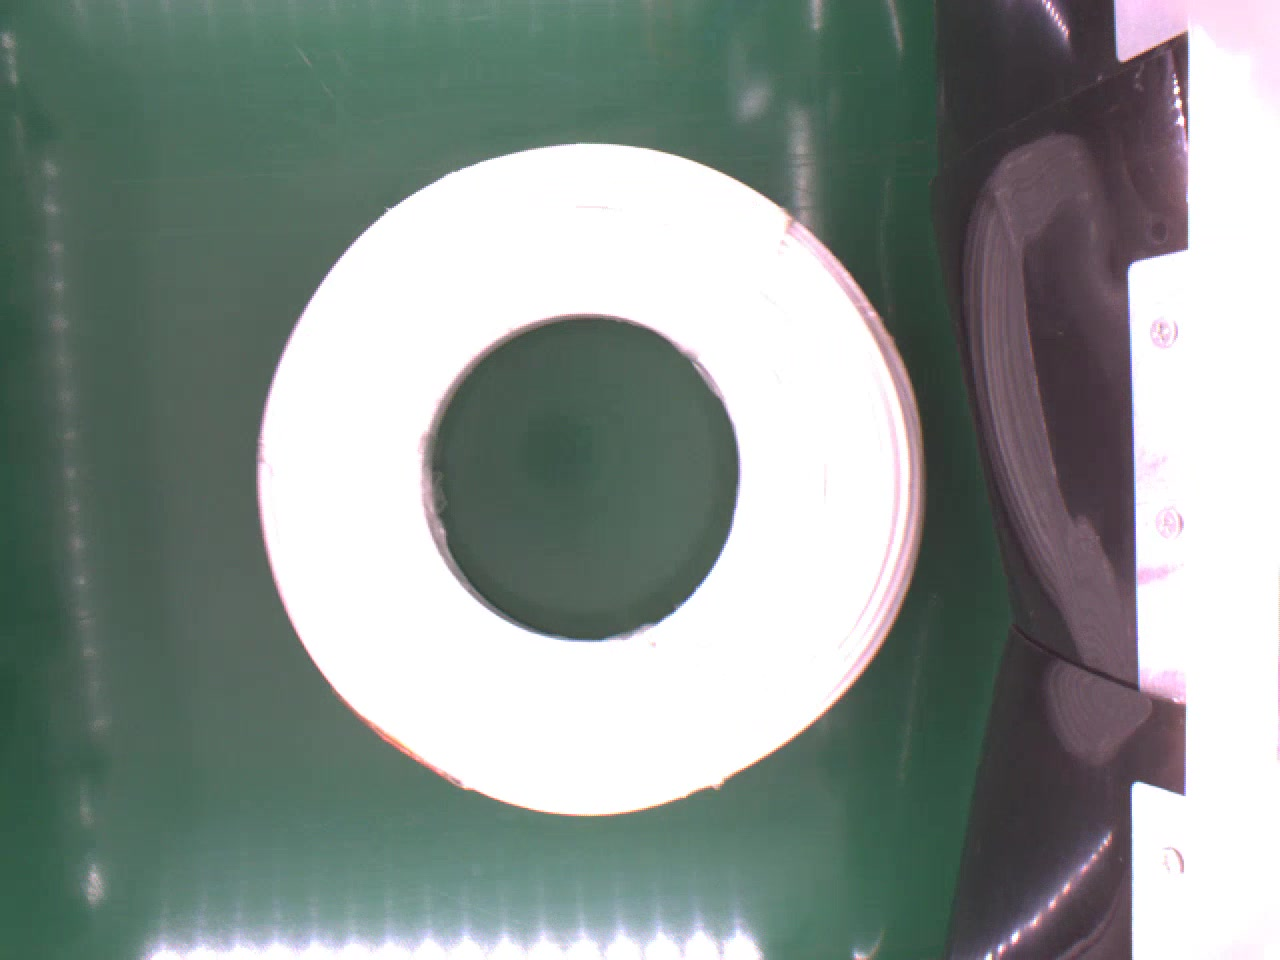white: (242, 141, 942, 828)
